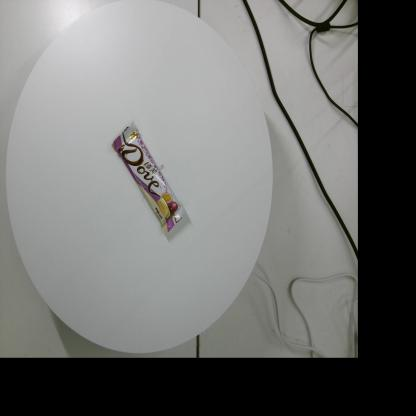Chocolate: (112, 122, 186, 235)
